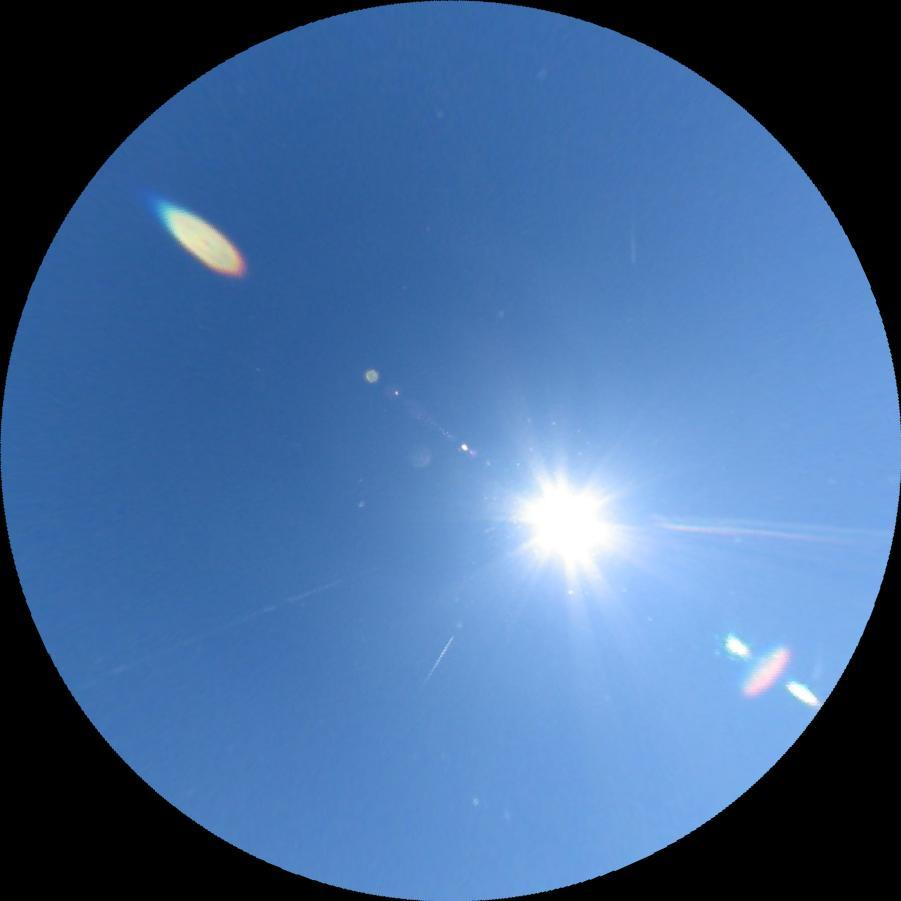contrail young: (421, 634, 455, 686), (811, 640, 824, 681), (628, 200, 635, 263)
parasite: (76, 574, 342, 694), (661, 522, 892, 547)
sun: (510, 468, 621, 576)
